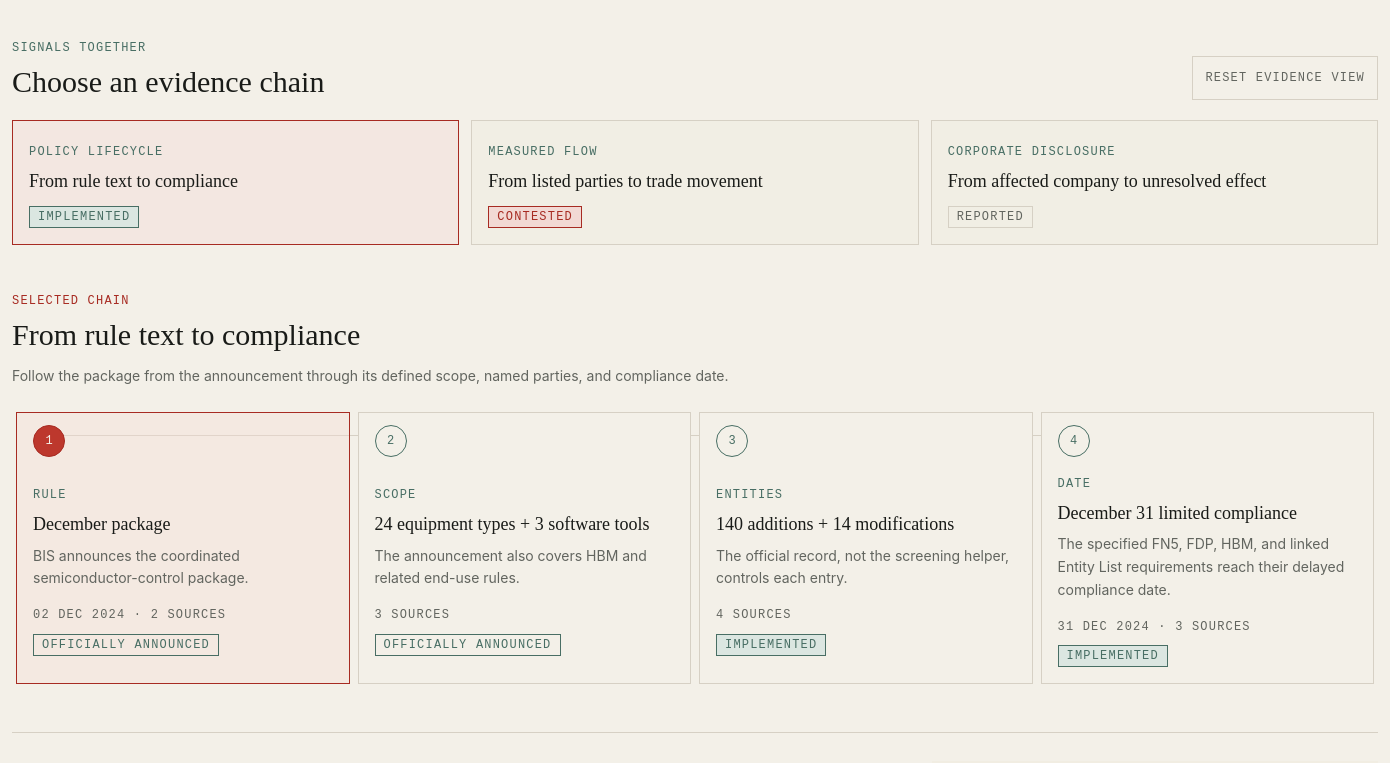
Test: AtlasExplorer › renders the complete four-step chain and synchronizes step query state
Expected: the text "24 equipment types + 3 software tools" is shown, [374,512,674,537]
Expected: the text "140 additions + 14 modifications" is shown, [716,514,954,534]
Click the button "140 additions" at (866, 548), box [699,412,1032,684]
(page scrolled)
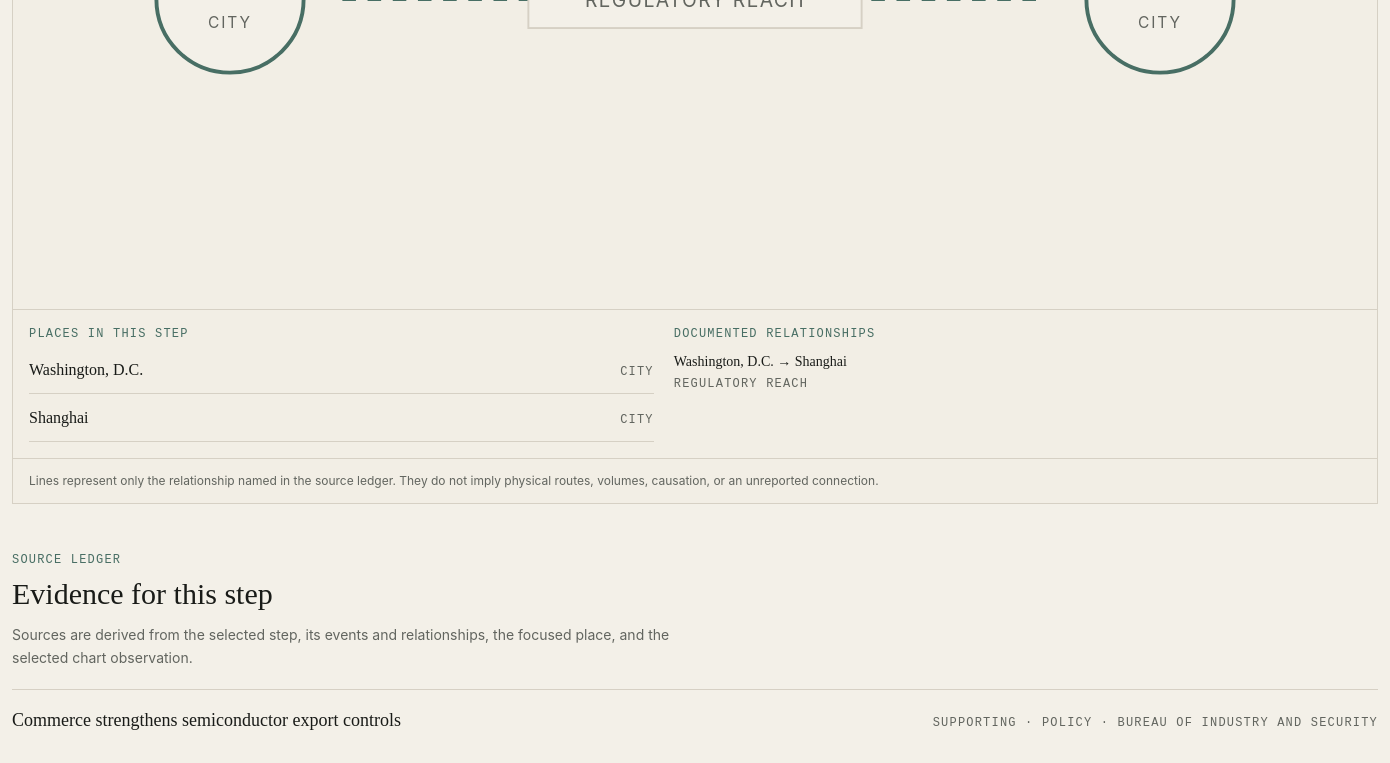
Expected: the text "Regulatory reach" is shown, [674,377,808,391]
